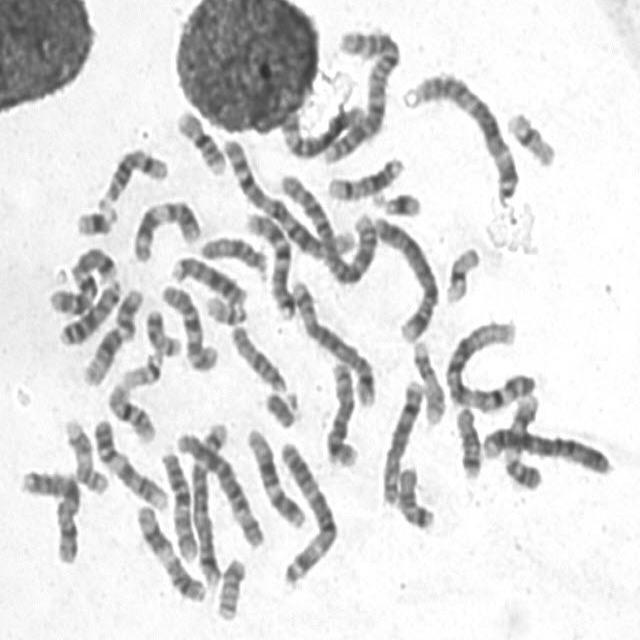A1: (217, 132, 359, 261), (440, 312, 540, 412)
A2: (275, 165, 379, 286), (318, 23, 402, 165)
A3: (404, 65, 520, 203), (273, 436, 340, 587)
B4: (367, 208, 440, 345), (476, 419, 614, 476)
B5: (284, 270, 378, 408), (187, 415, 231, 588)
C10: (156, 277, 220, 373), (155, 444, 199, 563)
C11: (131, 498, 208, 605), (127, 192, 203, 264)
C12: (76, 280, 146, 388), (241, 420, 308, 529)
C6: (170, 423, 267, 550), (278, 100, 365, 161)
C7: (239, 205, 297, 320), (43, 238, 120, 316)
C8: (374, 372, 426, 508), (319, 355, 359, 469)
C9: (87, 412, 171, 512), (498, 385, 544, 491)
D13: (54, 273, 124, 349), (166, 248, 248, 309)
D14: (92, 140, 170, 210), (321, 149, 406, 202)
D15: (224, 318, 290, 394), (194, 228, 270, 278)
E16: (170, 101, 228, 177), (102, 376, 158, 444)
E17: (59, 411, 110, 497), (407, 333, 447, 426)
E18: (391, 459, 437, 532), (449, 398, 483, 480)
F19: (501, 104, 558, 168), (439, 240, 482, 306)
F20: (211, 551, 247, 622), (139, 302, 183, 357)
G21: (70, 199, 119, 238), (371, 183, 423, 218)
G22: (117, 345, 165, 391), (199, 288, 249, 326)
X: (15, 462, 83, 567)
Y: (259, 384, 299, 429)
